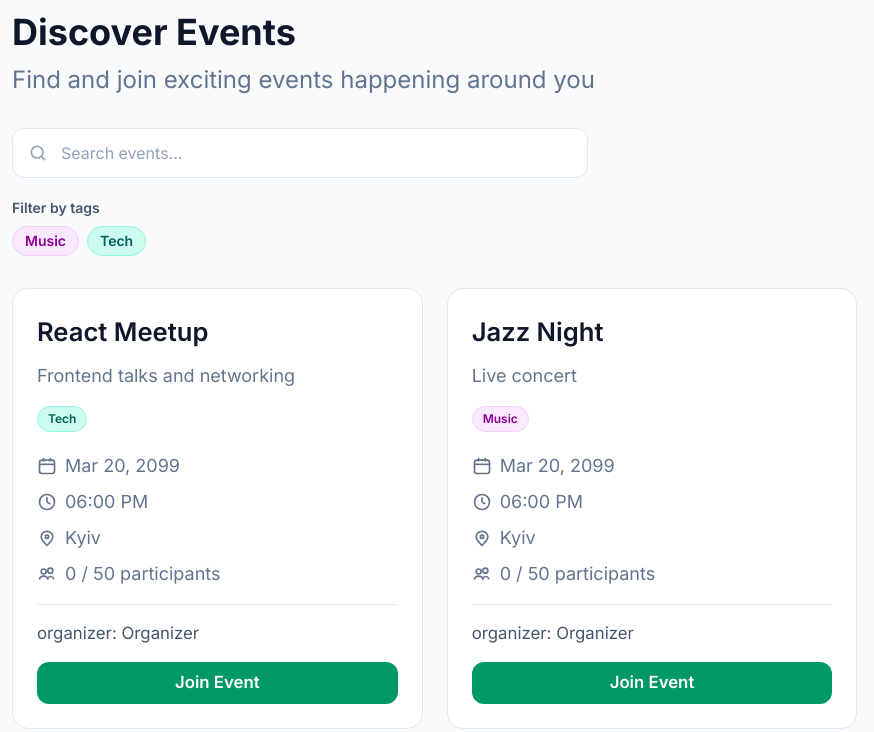
it: EventsPage › filters by tags together with search and shows empty-state message
Check: the heading "React Meetup" is shown, box [37, 316, 208, 347]
Check: the heading "Jazz Night" is shown, box [472, 316, 604, 347]
Click the button "Tech": x=117, y=241 [87, 226, 146, 256]
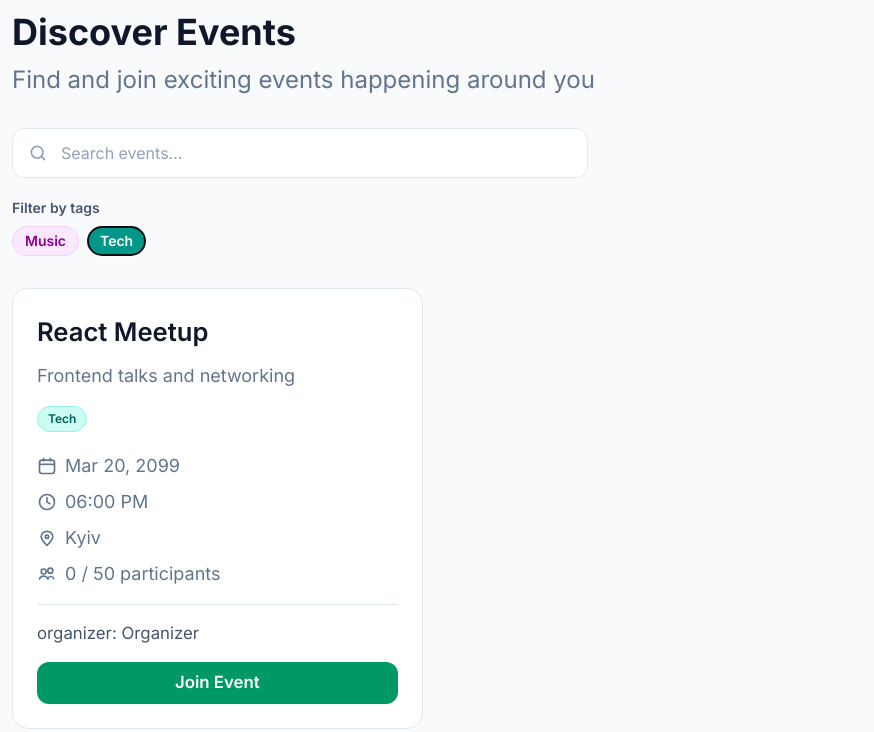
Check: the heading "React Meetup" is shown, box [37, 316, 208, 347]
Check: the button "Jazz Night" is gone
In the field with placeholder "Search events...": x=300, y=153 [12, 128, 588, 178], type "jazz"
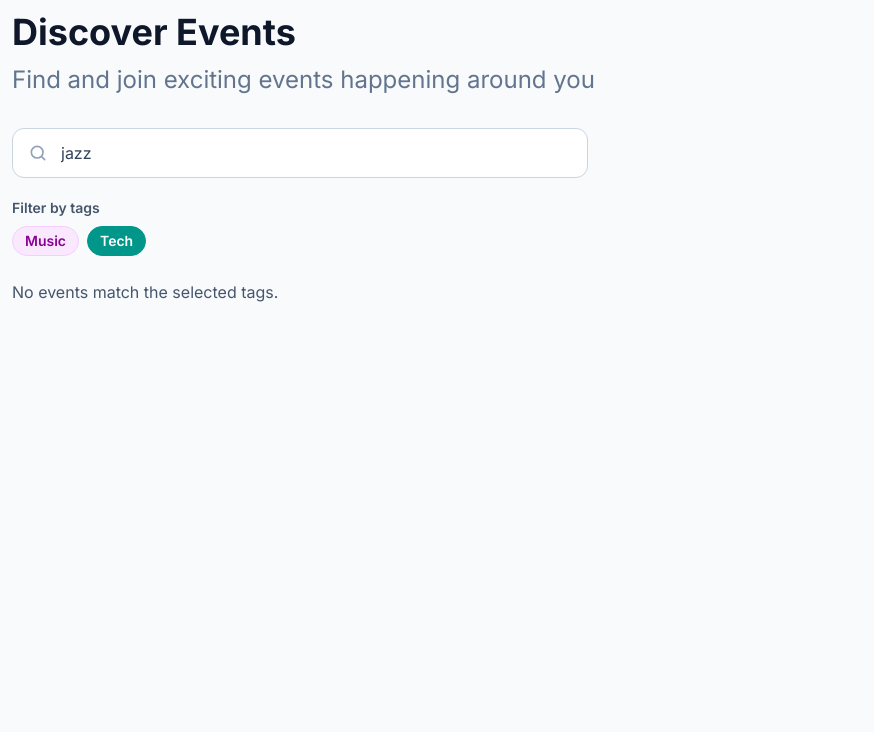
Check: the text "No events match the selected tags." is shown, box [12, 282, 278, 302]
